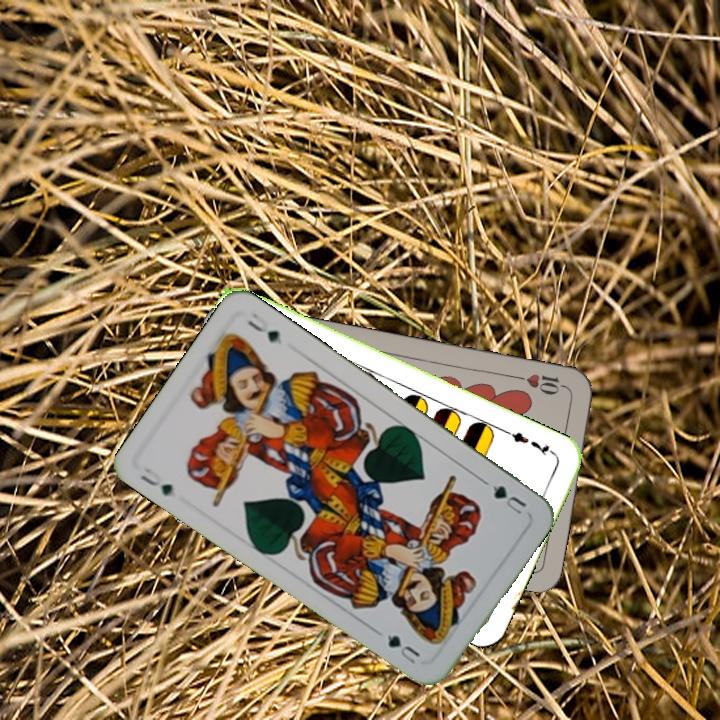E7: (502, 427, 558, 459)
GU: (479, 476, 529, 517), (136, 463, 176, 500)
H10: (511, 369, 570, 398)
